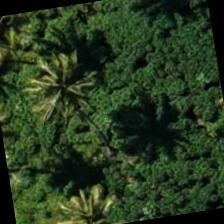Kelapa_Sawit: (8, 44, 110, 148), (2, 20, 104, 122), (0, 9, 59, 87)
